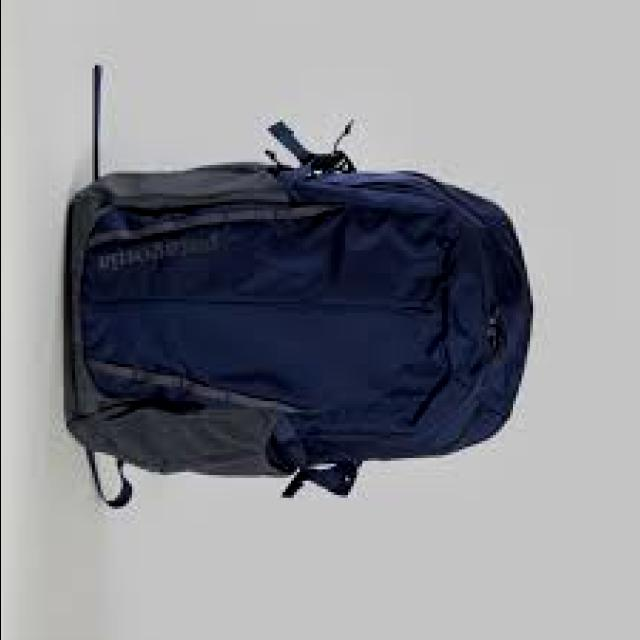backpack: (66, 64, 536, 510)
